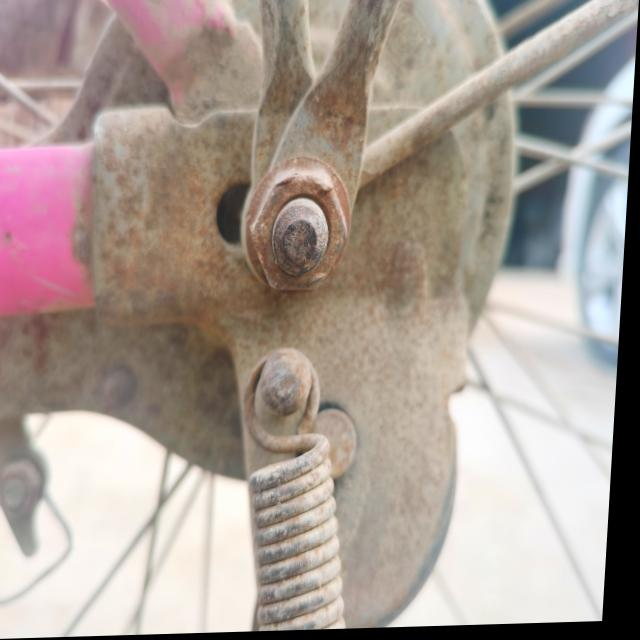Rusty bolt: (253, 173, 355, 300)
